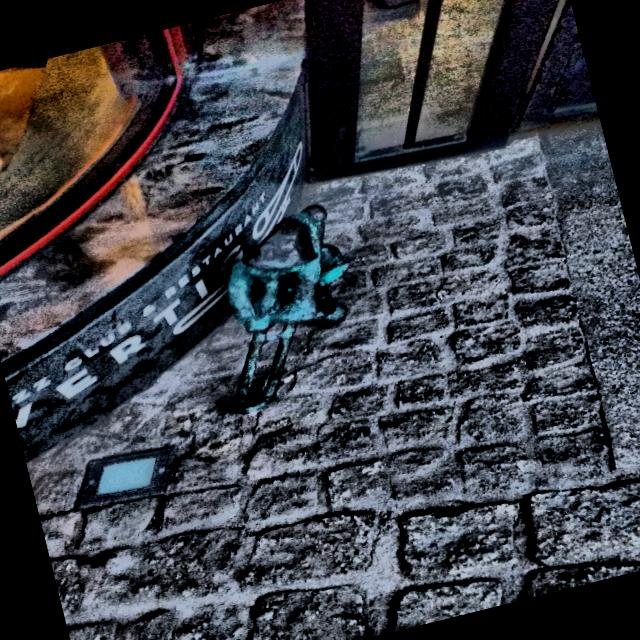Vertigus: (227, 205, 346, 411)
